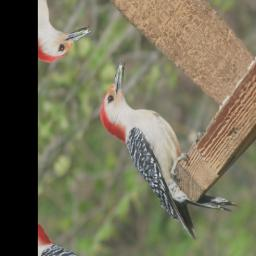Woodpecker: (78, 57, 251, 253)
